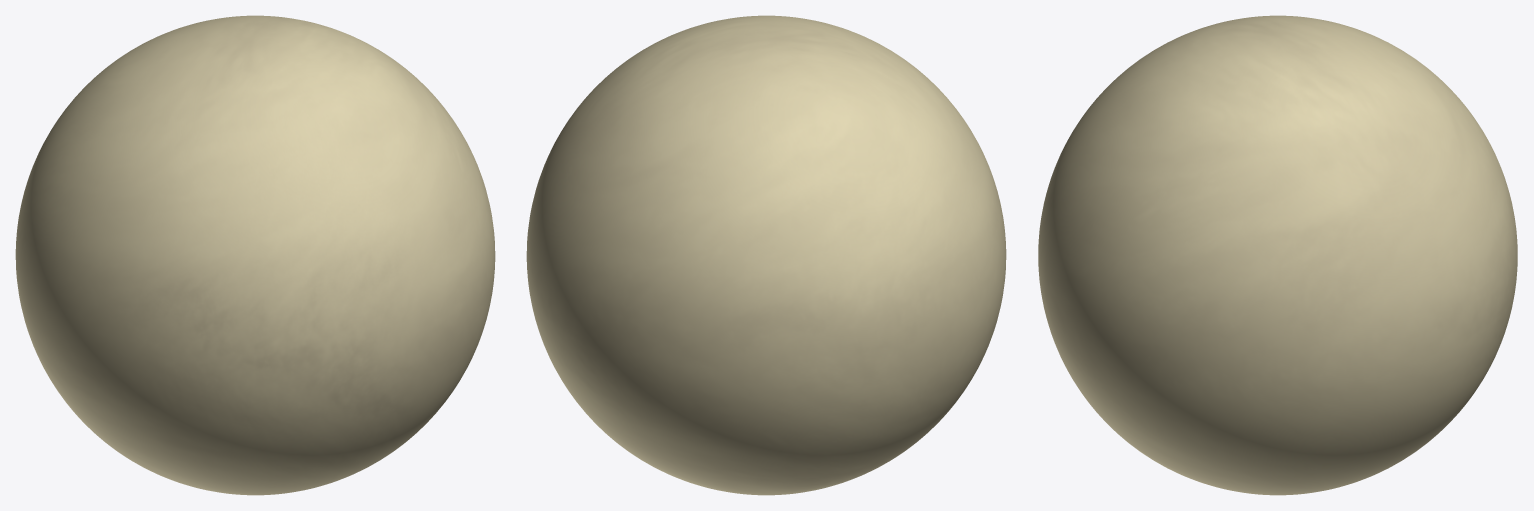
The model's file is venus.glb.
3 views of the same model, side by side, from view 1: azimuth 30°, elevation 25°; view 2: azimuth 150°, elevation 25°; view 3: azimuth 270°, elevation 25° (orthographic).
Visible parts, largest first — view 1: Venus_OpaqueCloudDeck; view 2: Venus_OpaqueCloudDeck; view 3: Venus_OpaqueCloudDeck.
Boxes of the visible parts, bbox=[...] form: Venus_OpaqueCloudDeck: bbox=[15, 15, 495, 495]; Venus_OpaqueCloudDeck: bbox=[526, 15, 1006, 495]; Venus_OpaqueCloudDeck: bbox=[1038, 15, 1517, 495].
Bounding box in the file's own units: 1.01 × 1.01 × 1.01.
Materials: 3 (1 with a texture image).
